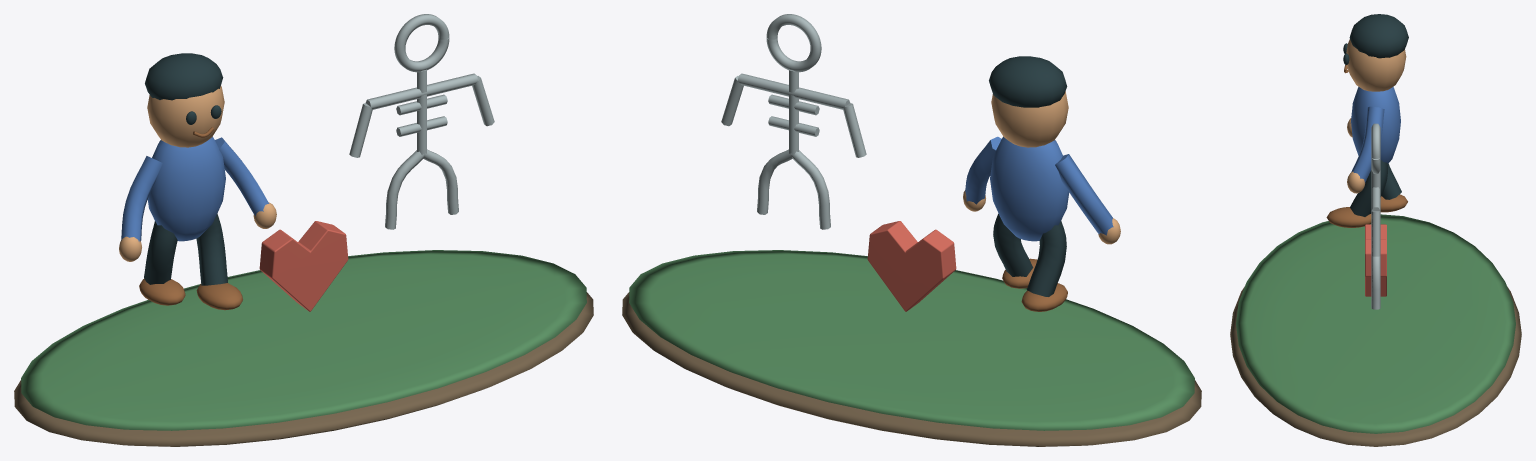
Rendered from complete-first-body-frame-health.glb.
3 views of the same model, side by side, from view 1: azimuth 30°, elevation 25°; view 2: azimuth 150°, elevation 25°; view 3: azimuth 270°, elevation 25° (orthographic). The views are drawn at different scales.
Visible parts, largest first — view 1: complete-first-body-frame-health_surface_01, complete-first-body-frame-health_surface_00, complete-first-body-frame-health_surface_05, complete-first-body-frame-health_surface_06, complete-first-body-frame-health_surface_03, complete-first-body-frame-health_surface_07, complete-first-body-frame-health_surface_02, complete-first-body-frame-health_surface_04; view 2: complete-first-body-frame-health_surface_01, complete-first-body-frame-health_surface_00, complete-first-body-frame-health_surface_05, complete-first-body-frame-health_surface_06, complete-first-body-frame-health_surface_03, complete-first-body-frame-health_surface_07, complete-first-body-frame-health_surface_02, complete-first-body-frame-health_surface_04; view 3: complete-first-body-frame-health_surface_01, complete-first-body-frame-health_surface_00, complete-first-body-frame-health_surface_03, complete-first-body-frame-health_surface_05, complete-first-body-frame-health_surface_02, complete-first-body-frame-health_surface_06, complete-first-body-frame-health_surface_04, complete-first-body-frame-health_surface_07.
Part boxes in pixels (left/top/right/bottom): complete-first-body-frame-health_surface_01: left=21, top=250, right=586, bottom=430; complete-first-body-frame-health_surface_00: left=14, top=292, right=593, bottom=446; complete-first-body-frame-health_surface_05: left=121, top=136, right=269, bottom=241; complete-first-body-frame-health_surface_06: left=349, top=14, right=494, bottom=229; complete-first-body-frame-health_surface_03: left=144, top=53, right=227, bottom=285; complete-first-body-frame-health_surface_07: left=259, top=221, right=348, bottom=311; complete-first-body-frame-health_surface_02: left=119, top=86, right=276, bottom=261; complete-first-body-frame-health_surface_04: left=139, top=127, right=242, bottom=310; complete-first-body-frame-health_surface_01: left=629, top=250, right=1194, bottom=430; complete-first-body-frame-health_surface_00: left=622, top=292, right=1201, bottom=446; complete-first-body-frame-health_surface_05: left=965, top=136, right=1113, bottom=241; complete-first-body-frame-health_surface_06: left=721, top=14, right=866, bottom=229; complete-first-body-frame-health_surface_03: left=989, top=56, right=1067, bottom=296; complete-first-body-frame-health_surface_07: left=867, top=221, right=956, bottom=311; complete-first-body-frame-health_surface_02: left=963, top=91, right=1120, bottom=244; complete-first-body-frame-health_surface_04: left=1002, top=258, right=1067, bottom=311; complete-first-body-frame-health_surface_01: left=1236, top=214, right=1515, bottom=433; complete-first-body-frame-health_surface_00: left=1230, top=286, right=1521, bottom=446; complete-first-body-frame-health_surface_03: left=1343, top=14, right=1408, bottom=216; complete-first-body-frame-health_surface_05: left=1350, top=86, right=1400, bottom=182; complete-first-body-frame-health_surface_02: left=1346, top=39, right=1406, bottom=193; complete-first-body-frame-health_surface_06: left=1371, top=123, right=1380, bottom=309; complete-first-body-frame-health_surface_04: left=1326, top=65, right=1407, bottom=227; complete-first-body-frame-health_surface_07: left=1365, top=224, right=1386, bottom=296.
Size of the model in its own units: 4.56 by 2.67 by 2.5.
